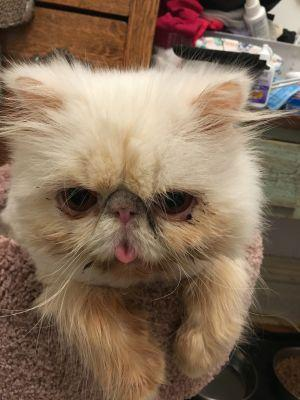persian: (1, 41, 264, 305)
